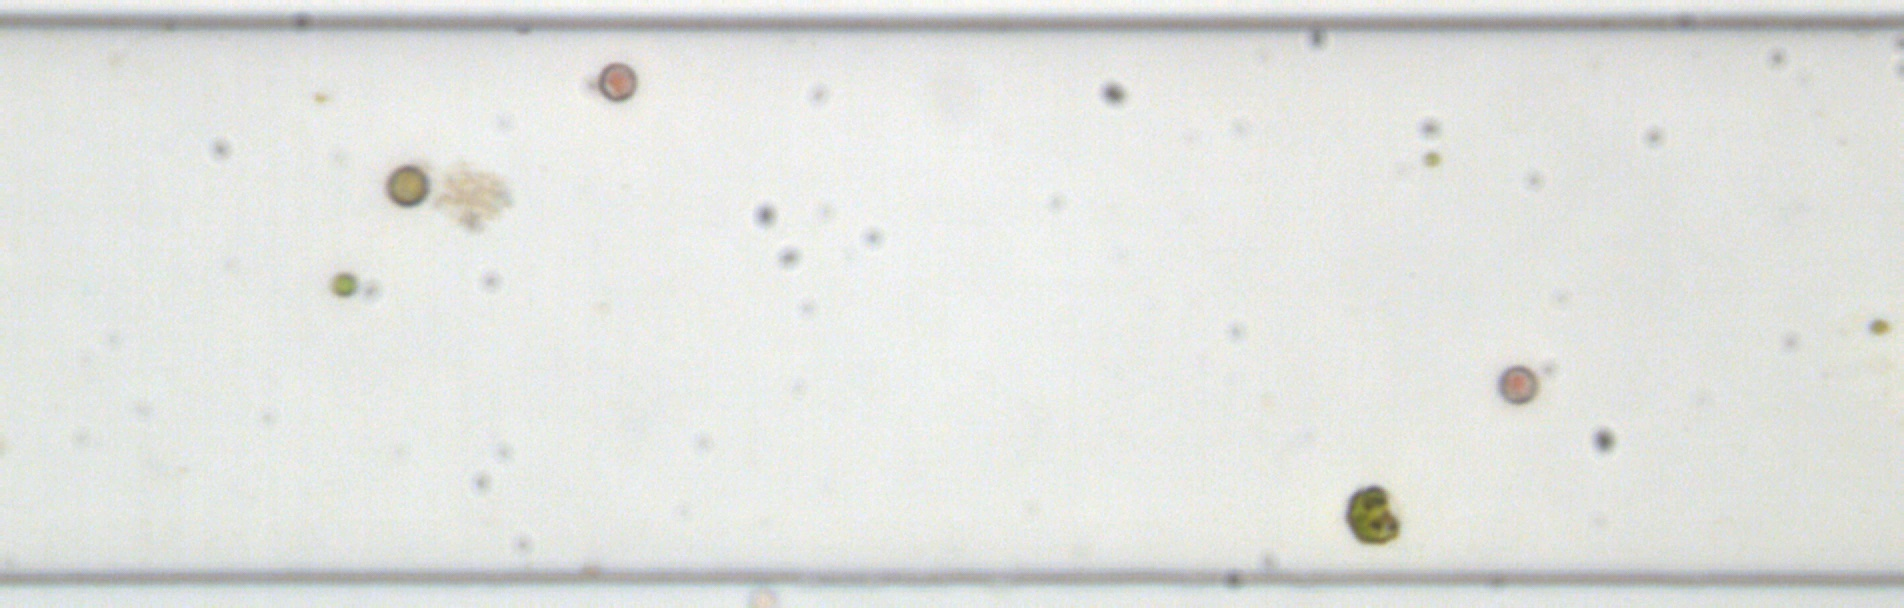Chlorella: (330, 269, 357, 299), (1865, 316, 1892, 339), (1422, 148, 1440, 166)
Effrenium: (381, 161, 432, 208)
Haematococcus: (1344, 481, 1402, 546)
Porphyridium: (1494, 362, 1538, 405), (595, 59, 637, 103)
